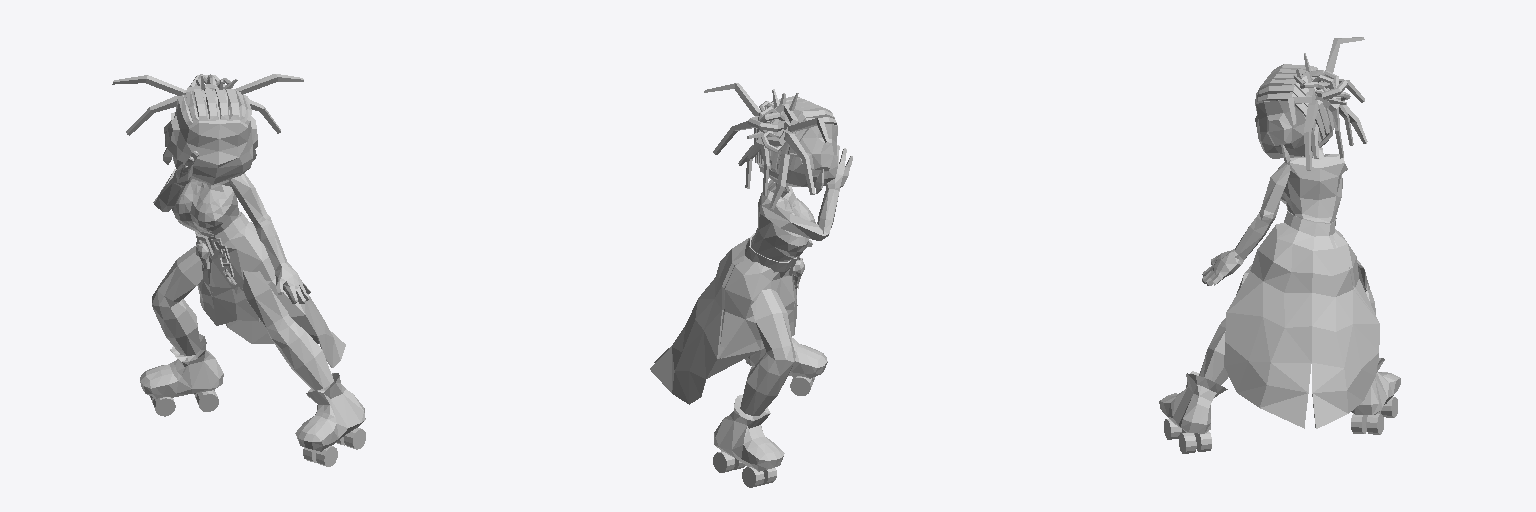
File: bruja_000079.obj
The picture shows the model from 3 angles: view 1: azimuth 30°, elevation 25°; view 2: azimuth 150°, elevation 25°; view 3: azimuth 270°, elevation 25°; orthographic projection.
Parts seen in each view (by area): view 1: Bruja_Plane.001; view 2: Bruja_Plane.001; view 3: Bruja_Plane.001.
Part boxes in pixels (x1,y1,x2,y2): Bruja_Plane.001: (112, 74, 365, 466); Bruja_Plane.001: (650, 83, 852, 487); Bruja_Plane.001: (1159, 37, 1400, 453).
Bounding box in the file's own units: 9.07 × 15.42 × 9.26.